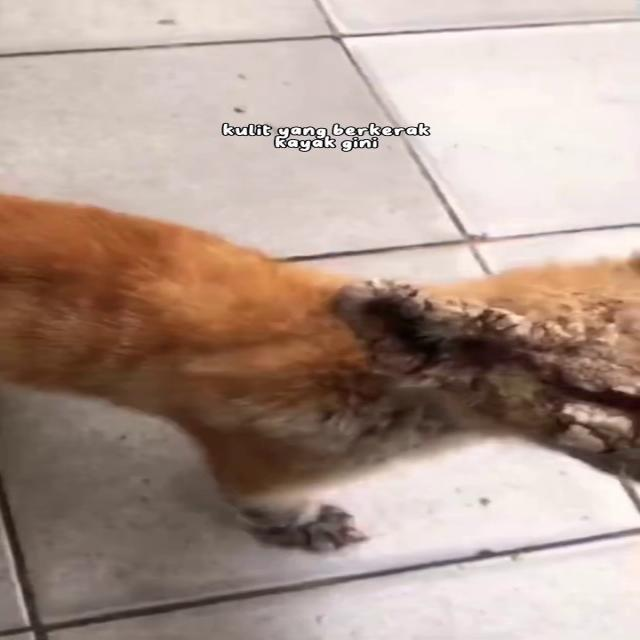ghe: (336, 275, 604, 446)
